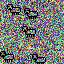sheep: (21, 25, 36, 38), (0, 51, 15, 63), (31, 53, 47, 64), (7, 3, 21, 15), (24, 8, 38, 19)
